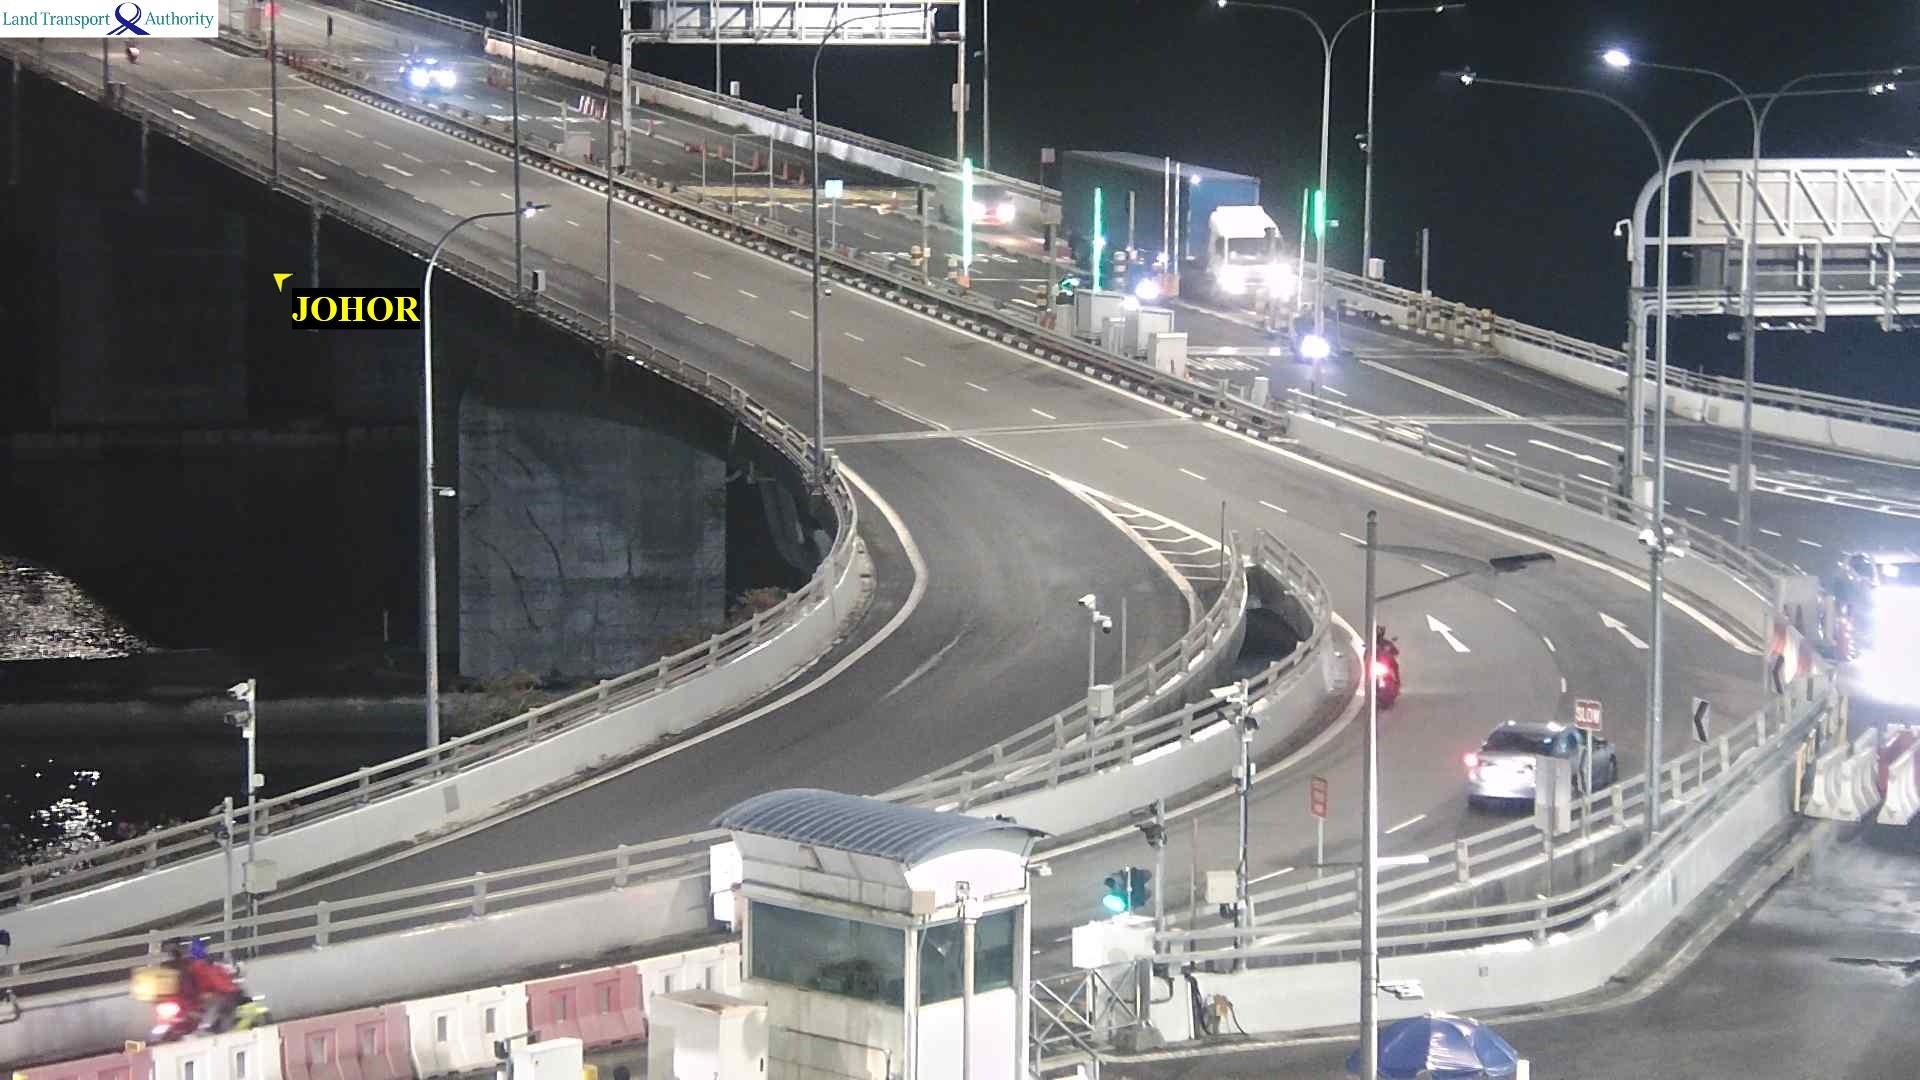vehicle-secondlink-johor: (1468, 713, 1617, 812), (140, 934, 269, 1034), (1373, 626, 1400, 707)
vehicle-secondlink-singapore: (1055, 145, 1290, 307), (397, 50, 455, 99)
